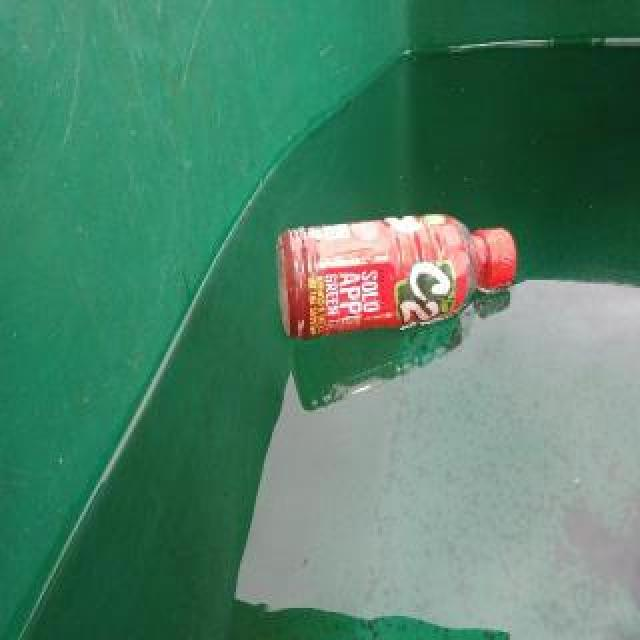Bottle: (266, 202, 526, 353)
